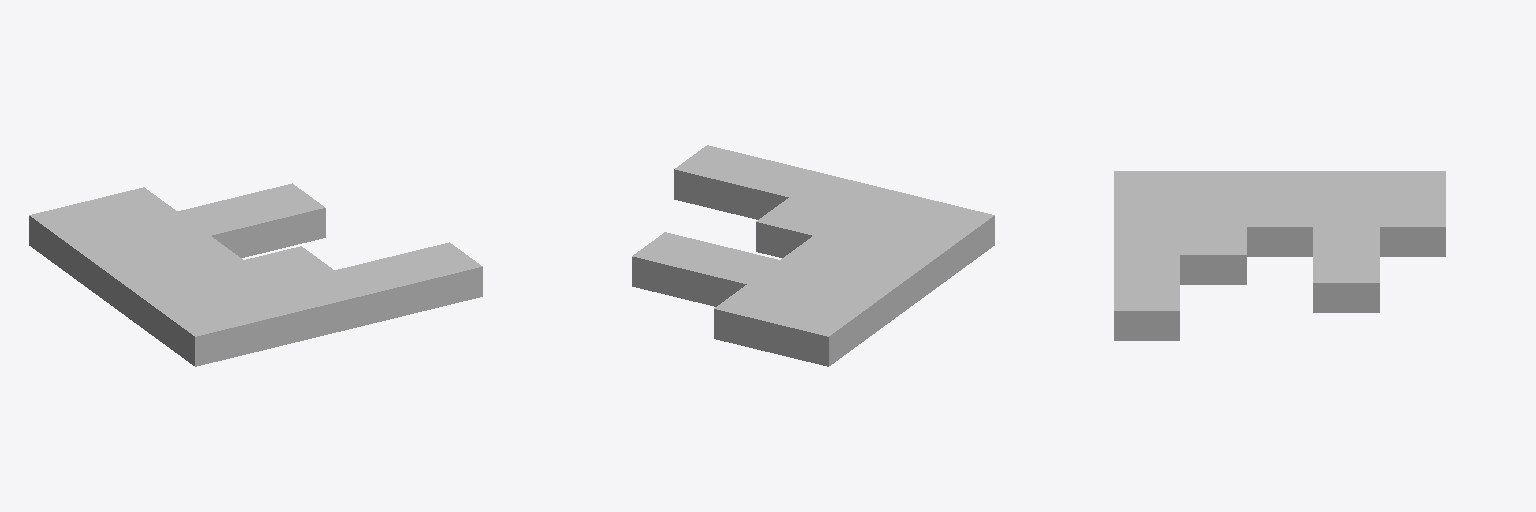
File: 18f_block.obj
The picture shows the model from 3 angles: view 1: azimuth 30°, elevation 25°; view 2: azimuth 150°, elevation 25°; view 3: azimuth 270°, elevation 25°; orthographic projection.
Parts seen in each view (by area): view 1: foil.block.0.0_block.3146, foil.block.4.0_block.3162, foil.block.2.0_block.3156, foil.block.3.3_block.3161, foil.block.1.0_block.3151, foil.block.3.0_block.3160, foil.block.2.3_block.3159, foil.block.0.3_block.3149, foil.block.0.4_block.3150, foil.block.0.2_block.3148, foil.block.0.1_block.3147, foil.block.1.1_block.3152 (+4 smaller); view 2: foil.block.0.4_block.3150, foil.block.4.0_block.3162, foil.block.1.4_block.3155, foil.block.3.3_block.3161, foil.block.2.3_block.3159, foil.block.2.1_block.3157, foil.block.3.0_block.3160, foil.block.0.1_block.3147, foil.block.0.0_block.3146, foil.block.0.2_block.3148, foil.block.0.3_block.3149, foil.block.2.0_block.3156 (+4 smaller); view 3: foil.block.2.1_block.3157, foil.block.3.3_block.3161, foil.block.1.2_block.3153, foil.block.1.4_block.3155, foil.block.4.0_block.3162, foil.block.0.1_block.3147, foil.block.0.3_block.3149, foil.block.1.1_block.3152, foil.block.1.3_block.3154, foil.block.2.3_block.3159, foil.block.0.0_block.3146, foil.block.0.2_block.3148 (+4 smaller).
Boxes of the visible parts, box(x1,y1,x2,y2) form: foil.block.0.0_block.3146: box(162, 298, 252, 366); foil.block.4.0_block.3162: box(392, 242, 482, 310); foil.block.2.0_block.3156: box(277, 270, 367, 338); foil.block.3.3_block.3161: box(235, 183, 325, 251); foil.block.1.0_block.3151: box(220, 285, 309, 352); foil.block.3.0_block.3160: box(335, 257, 424, 324); foil.block.2.3_block.3159: box(177, 198, 267, 257); foil.block.0.3_block.3149: box(62, 226, 152, 293); foil.block.0.4_block.3150: box(29, 201, 119, 268); foil.block.0.2_block.3148: box(96, 250, 184, 317); foil.block.0.1_block.3147: box(129, 274, 218, 341); foil.block.1.1_block.3152: box(187, 260, 276, 297); foil.block.0.4_block.3150: box(771, 298, 861, 366); foil.block.4.0_block.3162: box(674, 145, 763, 213); foil.block.1.4_block.3155: box(714, 285, 803, 352); foil.block.3.3_block.3161: box(632, 232, 721, 299); foil.block.2.3_block.3159: box(689, 246, 779, 306); foil.block.2.1_block.3157: box(756, 198, 846, 257); foil.block.3.0_block.3160: box(732, 159, 821, 219); foil.block.0.1_block.3147: box(871, 226, 961, 293); foil.block.0.0_block.3146: box(904, 201, 994, 268); foil.block.0.2_block.3148: box(839, 250, 927, 317); foil.block.0.3_block.3149: box(805, 274, 894, 341); foil.block.2.0_block.3156: box(789, 173, 878, 210); foil.block.2.1_block.3157: box(1180, 227, 1246, 284); foil.block.3.3_block.3161: box(1313, 255, 1379, 312); foil.block.1.2_block.3153: box(1247, 199, 1312, 256); foil.block.1.4_block.3155: box(1380, 199, 1445, 256); foil.block.4.0_block.3162: box(1114, 283, 1179, 340); foil.block.0.1_block.3147: box(1180, 171, 1246, 198); foil.block.0.3_block.3149: box(1313, 171, 1379, 198); foil.block.1.1_block.3152: box(1180, 199, 1246, 226); foil.block.1.3_block.3154: box(1313, 199, 1379, 226); foil.block.2.3_block.3159: box(1313, 227, 1379, 254); foil.block.0.0_block.3146: box(1114, 171, 1179, 198); foil.block.0.2_block.3148: box(1247, 171, 1312, 198).
Bounding box in the file's own units: 10 × 1 × 10.